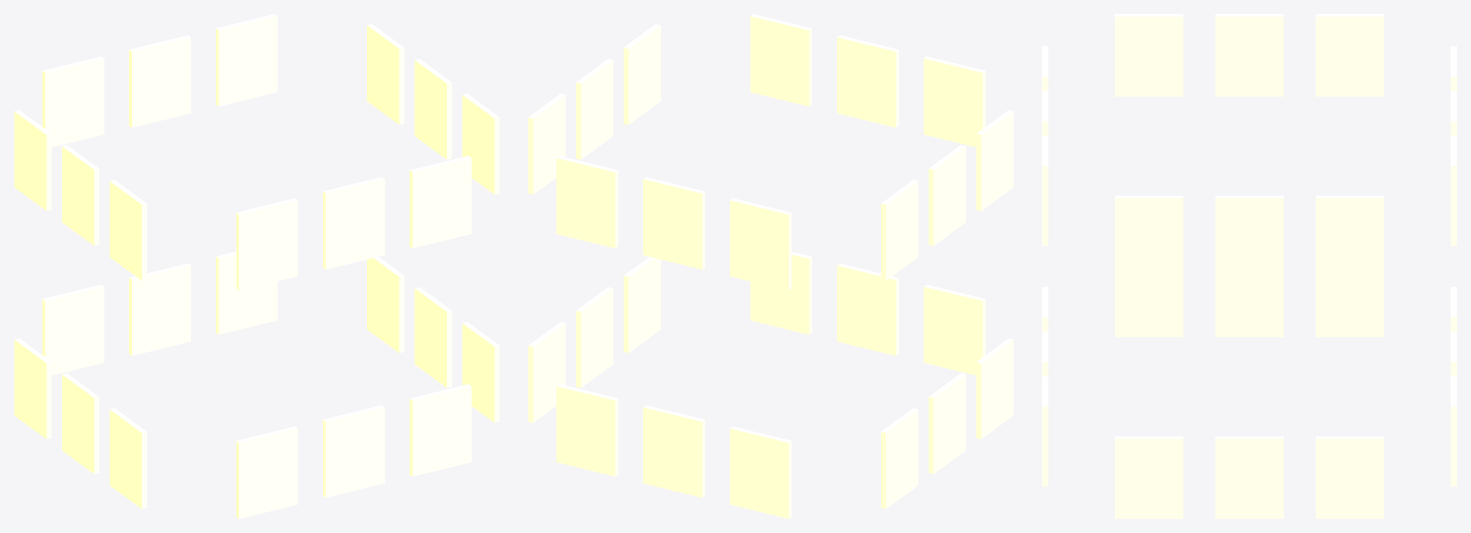
File: building-g.glb
3 views of the same model, side by side, from view 1: azimuth 30°, elevation 25°; view 2: azimuth 150°, elevation 25°; view 3: azimuth 270°, elevation 25° (orthographic). The views are drawn at different scales.
Parts seen in each view (by area): view 1: WindowLight_front_0_2, WindowLight_front_1_2, WindowLight_back_1_1, WindowLight_back_1_2, WindowLight_front_0_0, WindowLight_front_0_1, WindowLight_front_1_0, WindowLight_front_1_1, WindowLight_back_0_1, WindowLight_back_1_0, WindowLight_back_0_0, WindowLight_back_0_2 (+12 smaller); view 2: WindowLight_back_0_2, WindowLight_back_1_2, WindowLight_back_0_0, WindowLight_back_0_1, WindowLight_back_1_0, WindowLight_back_1_1, WindowLight_front_1_1, WindowLight_front_1_2, WindowLight_front_0_1, WindowLight_front_1_0, WindowLight_front_0_0, WindowLight_front_0_2 (+12 smaller); view 3: WindowLight_right_1_1, WindowLight_right_1_0, WindowLight_right_1_2, WindowLight_left_1_0, WindowLight_left_1_1, WindowLight_left_1_2, WindowLight_right_0_0, WindowLight_right_0_1, WindowLight_right_0_2, WindowLight_left_0_1, WindowLight_left_0_0, WindowLight_left_0_2 (+4 smaller).
Boxes of the visible parts, <box> form: WindowLight_front_0_2: <box>409,384,471,476</box>; WindowLight_front_1_2: <box>409,156,471,248</box>; WindowLight_back_1_1: <box>129,35,190,127</box>; WindowLight_back_1_2: <box>216,14,277,106</box>; WindowLight_front_0_0: <box>236,426,297,518</box>; WindowLight_front_0_1: <box>323,405,384,497</box>; WindowLight_front_1_0: <box>236,198,297,290</box>; WindowLight_front_1_1: <box>323,177,384,269</box>; WindowLight_back_0_1: <box>129,263,190,355</box>; WindowLight_back_1_0: <box>42,56,104,147</box>; WindowLight_back_0_0: <box>42,284,104,375</box>; WindowLight_back_0_2: <box>216,252,277,334</box>; WindowLight_back_0_2: <box>556,384,618,476</box>; WindowLight_back_1_2: <box>556,156,618,248</box>; WindowLight_back_0_0: <box>730,426,791,518</box>; WindowLight_back_0_1: <box>643,405,704,497</box>; WindowLight_back_1_0: <box>730,198,791,290</box>; WindowLight_back_1_1: <box>643,177,704,269</box>; WindowLight_front_1_1: <box>837,35,898,127</box>; WindowLight_front_1_2: <box>750,14,811,106</box>; WindowLight_front_0_1: <box>837,263,898,355</box>; WindowLight_front_1_0: <box>923,56,985,147</box>; WindowLight_front_0_0: <box>923,284,985,375</box>; WindowLight_front_0_2: <box>750,252,811,334</box>; WindowLight_right_1_1: <box>1215,195,1283,278</box>; WindowLight_right_1_0: <box>1115,195,1183,278</box>; WindowLight_right_1_2: <box>1315,195,1383,278</box>; WindowLight_left_1_0: <box>1115,14,1183,96</box>; WindowLight_left_1_1: <box>1215,14,1283,96</box>; WindowLight_left_1_2: <box>1315,14,1383,96</box>; WindowLight_right_0_0: <box>1115,436,1183,518</box>; WindowLight_right_0_1: <box>1215,436,1283,518</box>; WindowLight_right_0_2: <box>1315,436,1383,518</box>; WindowLight_left_0_1: <box>1215,278,1283,337</box>; WindowLight_left_0_0: <box>1115,278,1183,337</box>; WindowLight_left_0_2: <box>1315,278,1383,337</box>.
Bounding box in the file's own units: 1 × 0.8126 × 0.952.
